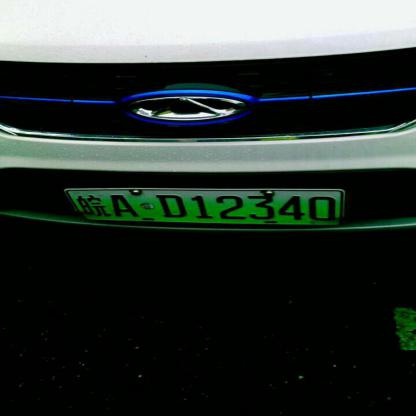lp: (64, 188, 342, 225)
